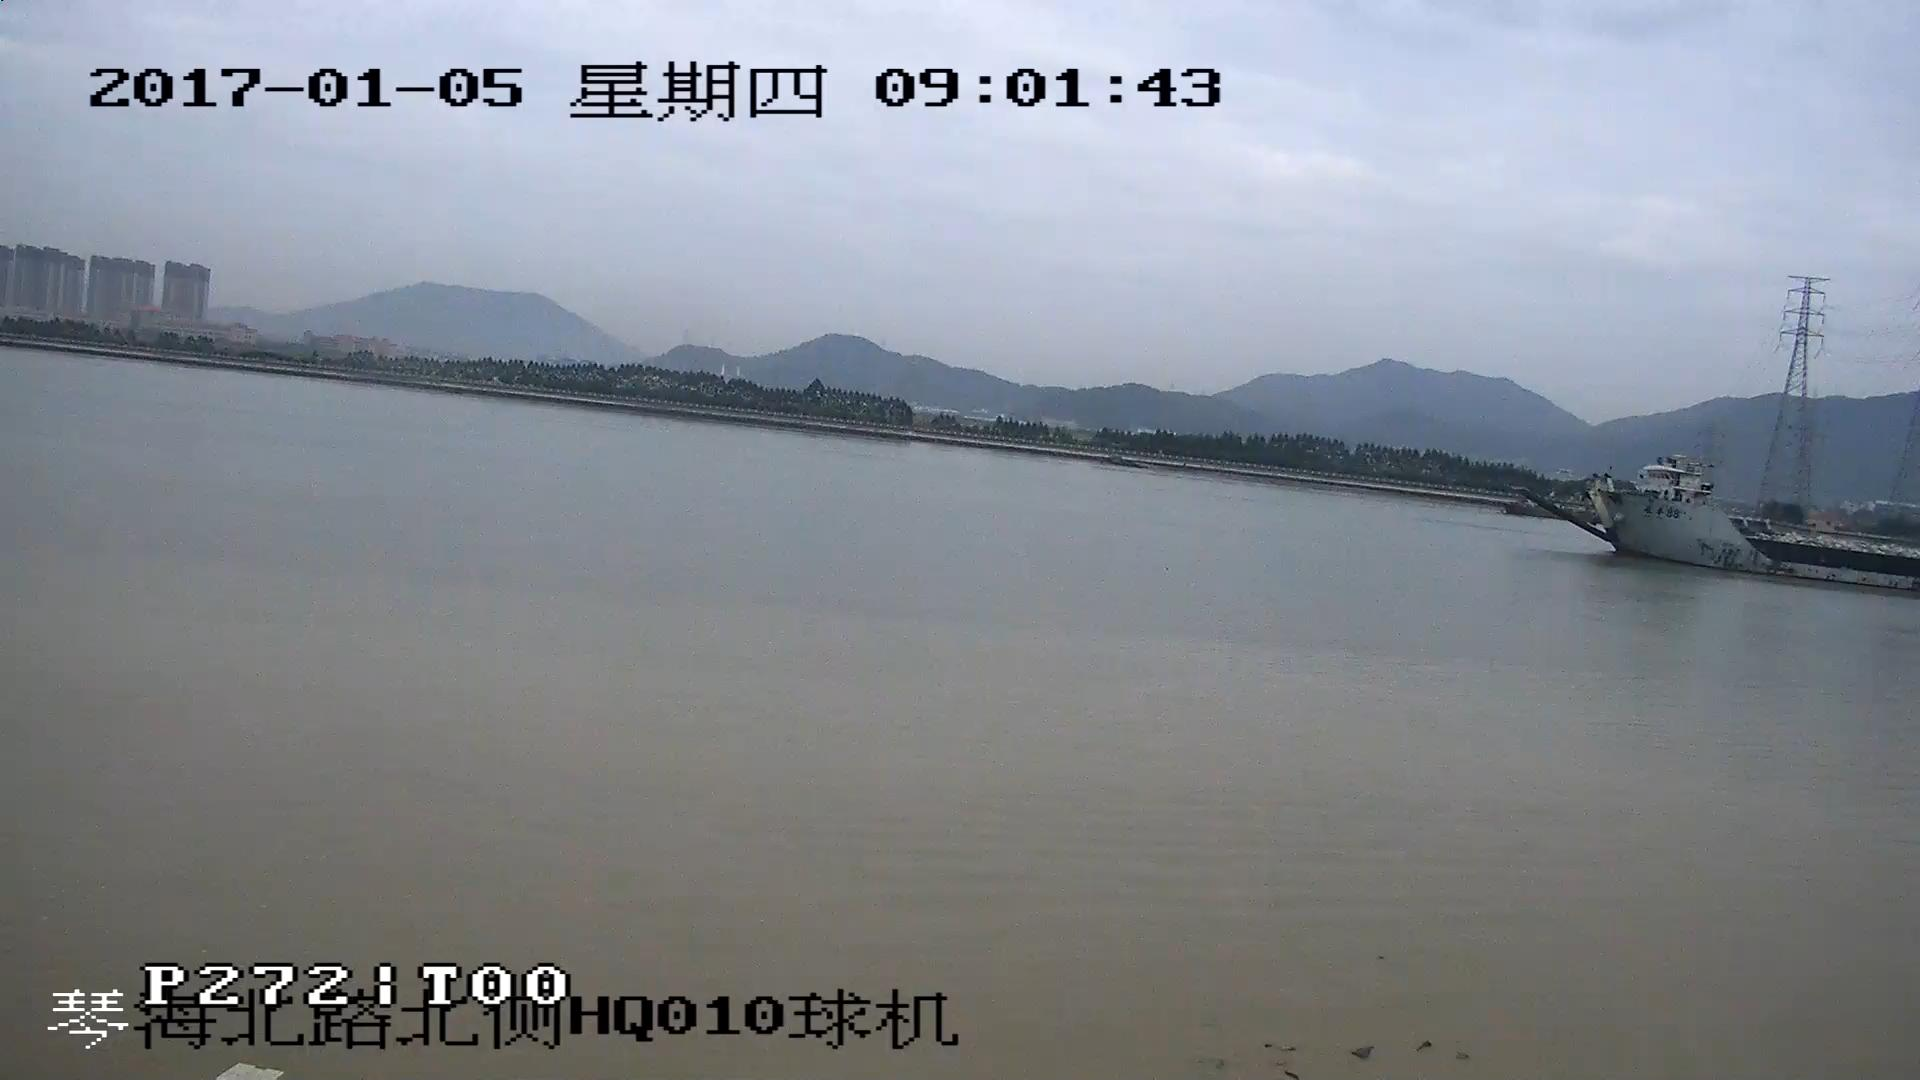bulk cargo carrier: (1545, 470, 1920, 598)
